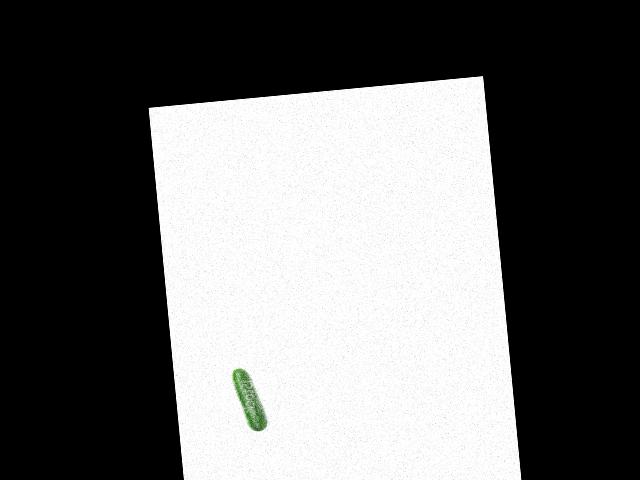cucumber: (231, 366, 267, 433)
